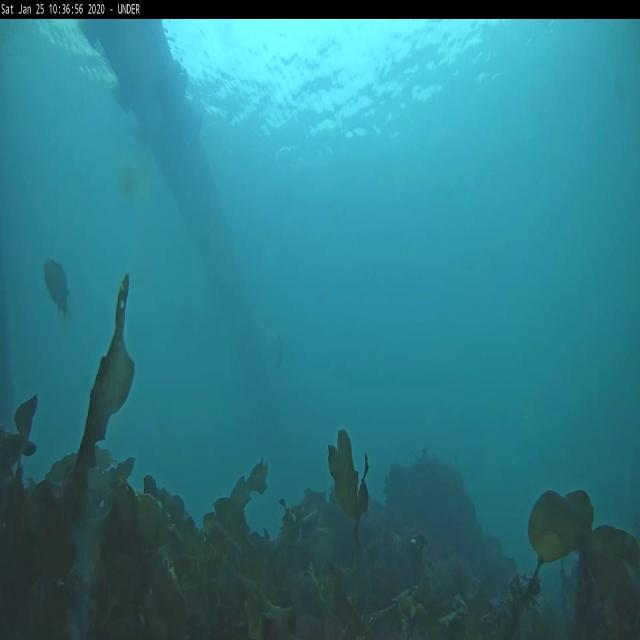fish: (43, 262, 71, 317), (274, 331, 286, 376)
